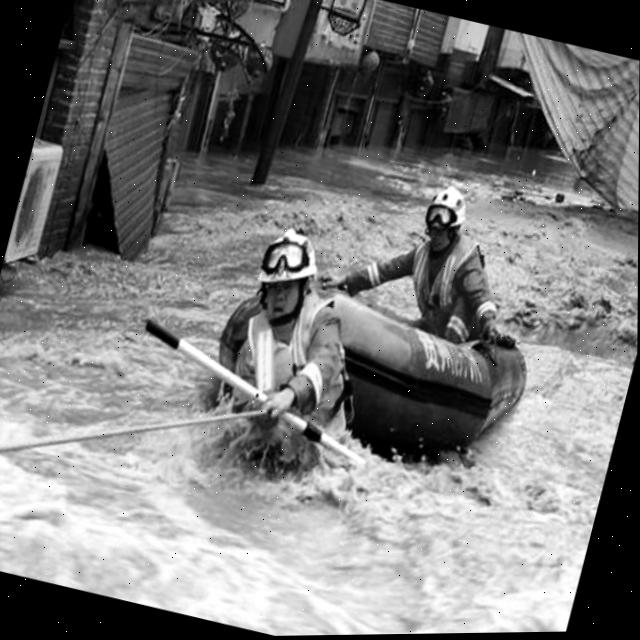rescuer: (305, 154, 546, 367), (209, 216, 391, 468)
